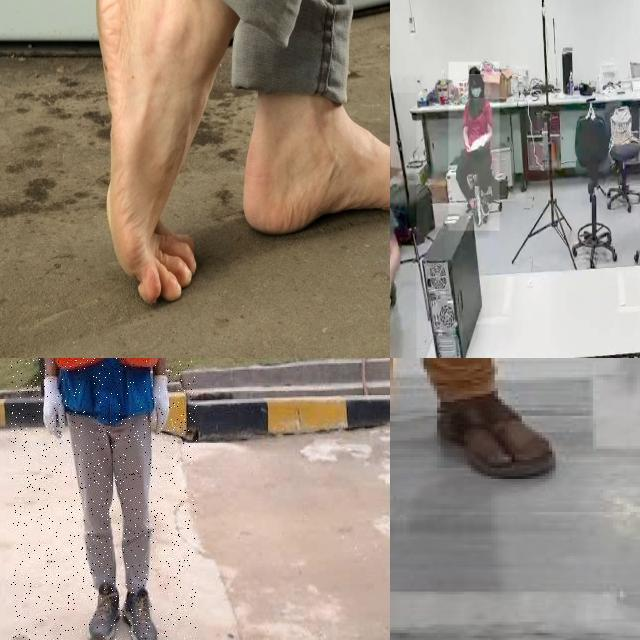Barefoots: (95, 0, 197, 302), (243, 121, 390, 233)
Sandals: (432, 368, 562, 487)
boots: (88, 582, 123, 640), (122, 589, 160, 640)
face_mask: (470, 75, 484, 98)
hand_glove: (390, 276, 400, 330)
hand_noglove: (465, 142, 471, 152)
head_nohelmet: (468, 65, 480, 75)
person: (11, 358, 197, 640), (448, 62, 500, 232)
vest: (49, 358, 158, 420)
